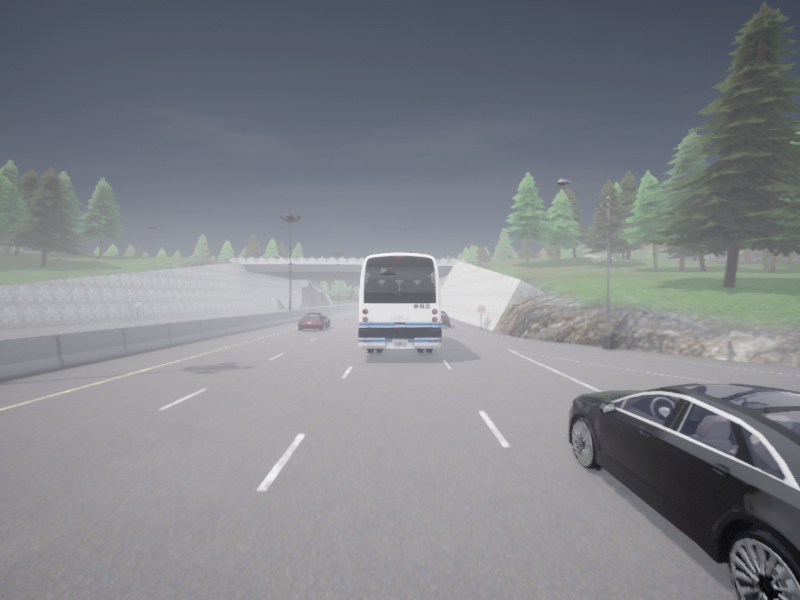vehicle: (569, 384, 799, 599), (358, 253, 441, 352), (298, 313, 330, 329), (441, 311, 450, 326)
